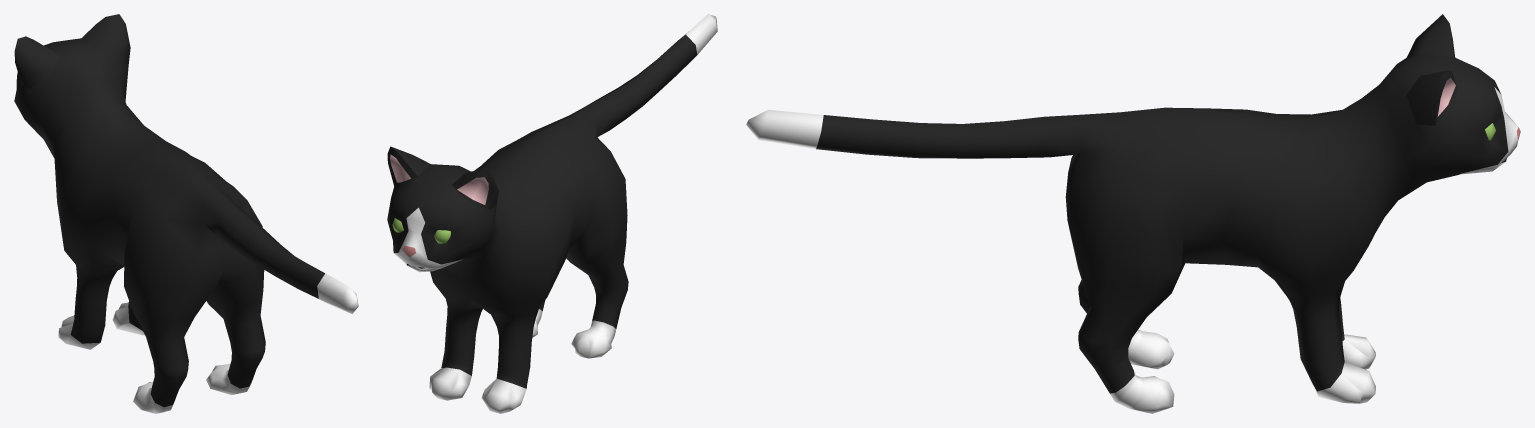
Rendered from 20240304_151512_cat.glb.
3 views of the same model, side by side, from view 1: azimuth 30°, elevation 25°; view 2: azimuth 150°, elevation 25°; view 3: azimuth 270°, elevation 25° (orthographic). The views are drawn at different scales.
Parts seen in each view (by area): view 1: kitty_001; view 2: kitty_001; view 3: kitty_001.
Part boxes in pixels (x1=…): kitty_001: x1=14, y1=14, x2=358, y2=413; kitty_001: x1=387, y1=14, x2=717, y2=413; kitty_001: x1=746, y1=14, x2=1520, y2=413.
Bounding box in the file's own units: 1.1 × 2.41 × 4.97.
Materials: 1 (1 with a texture image).
